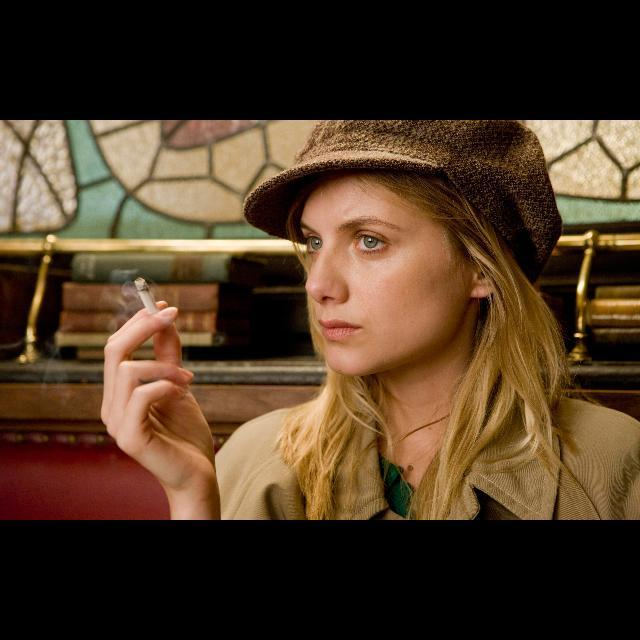rokok: (132, 272, 160, 308)
